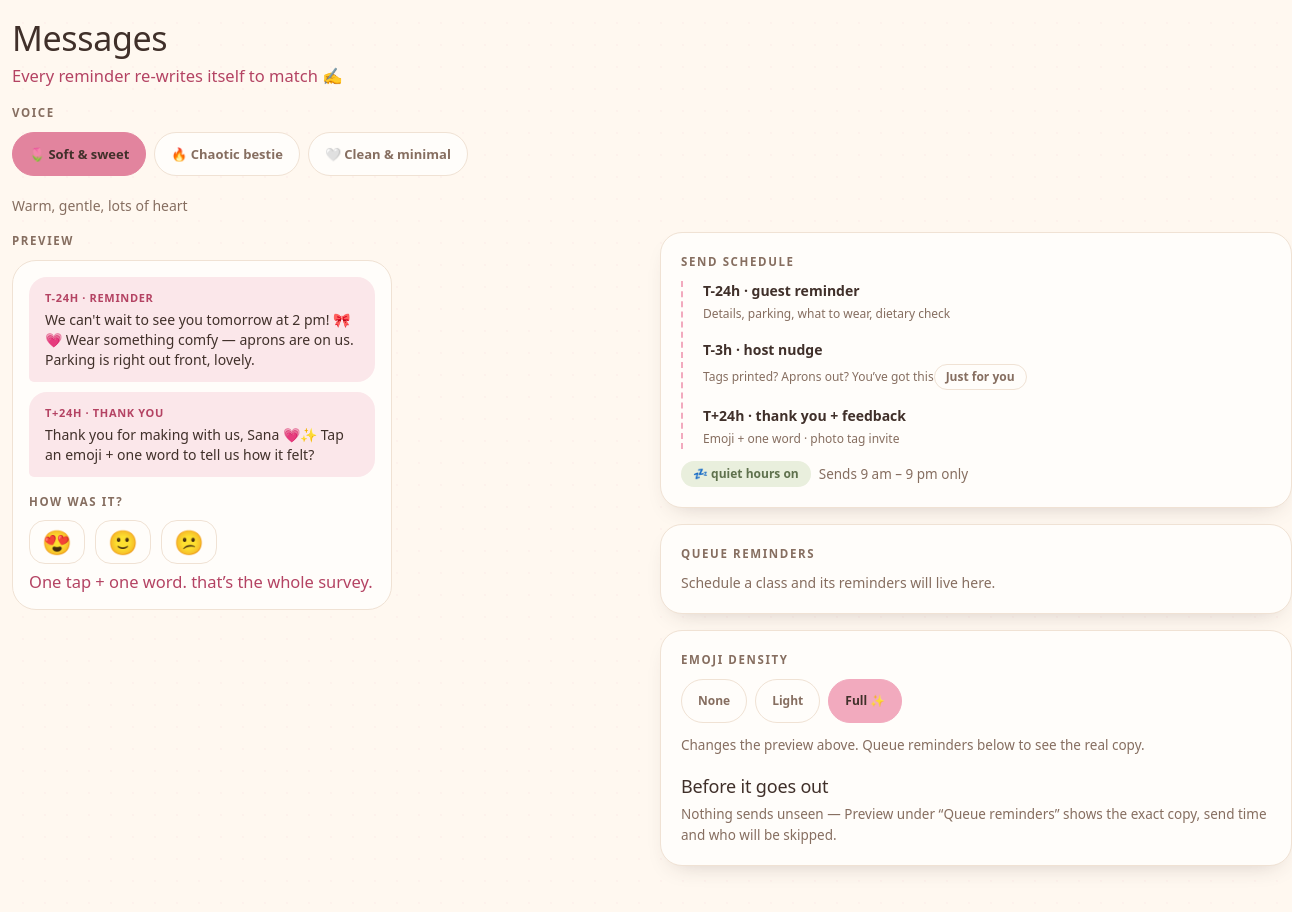
Test: MessagesStudio › rewrites every preview when the voice changes
The image size is (1292, 912).
Click the radio button labelled "🔥 Chaotic bestie" at (227, 154), box x1=154 y1=132 x2=300 y2=176
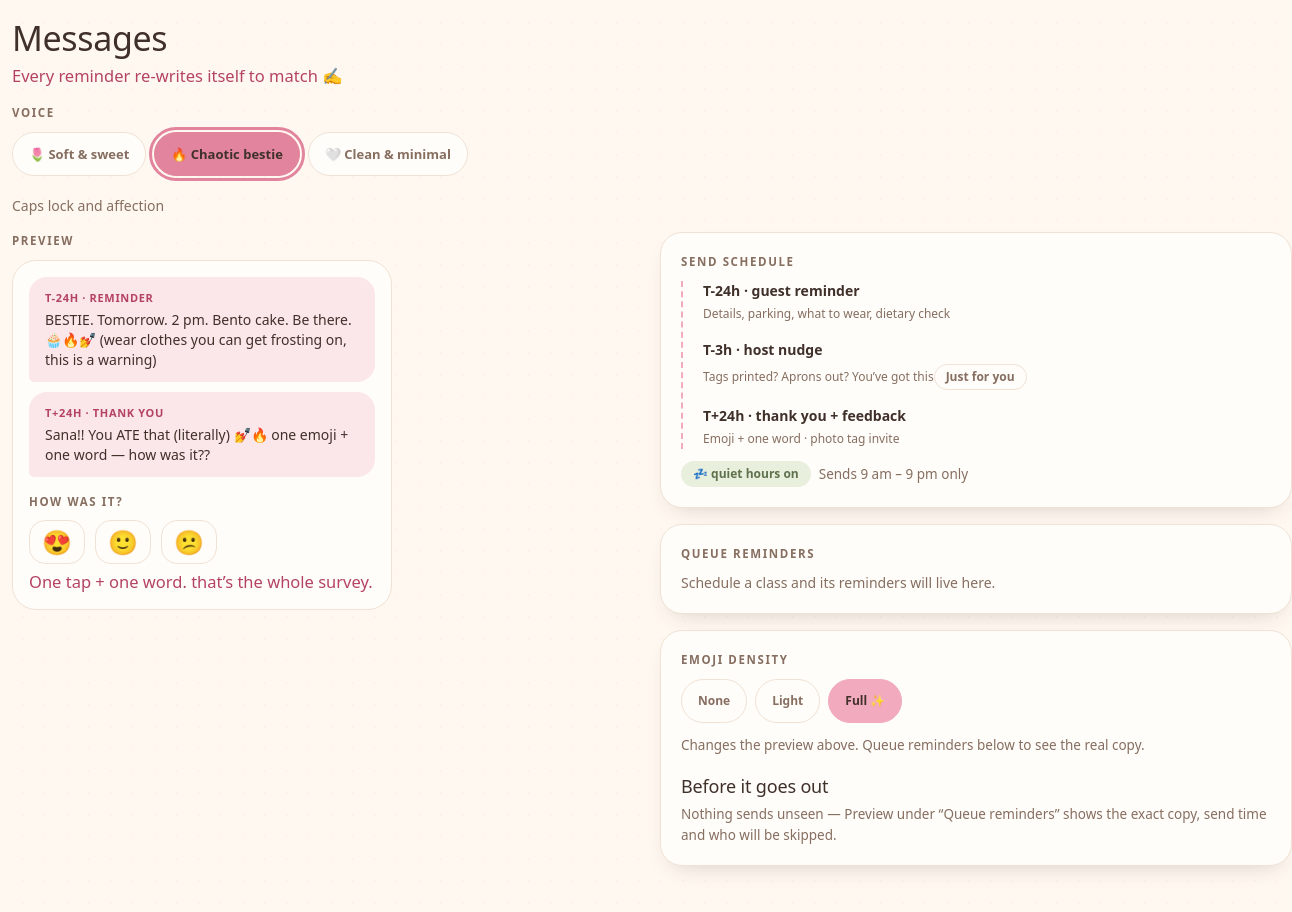
Now the text "BESTIE" is shown, box x1=45 y1=310 x2=352 y2=369
Now the text "You ATE that" is shown, box x1=45 y1=425 x2=348 y2=464
Now the text "We can't wait to see you" is gone
